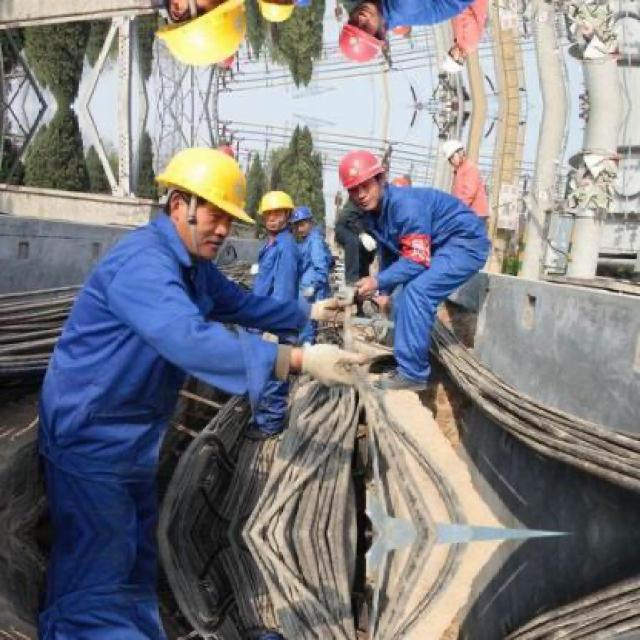con casco: (91, 139, 270, 323), (332, 132, 420, 229), (248, 180, 310, 247)
